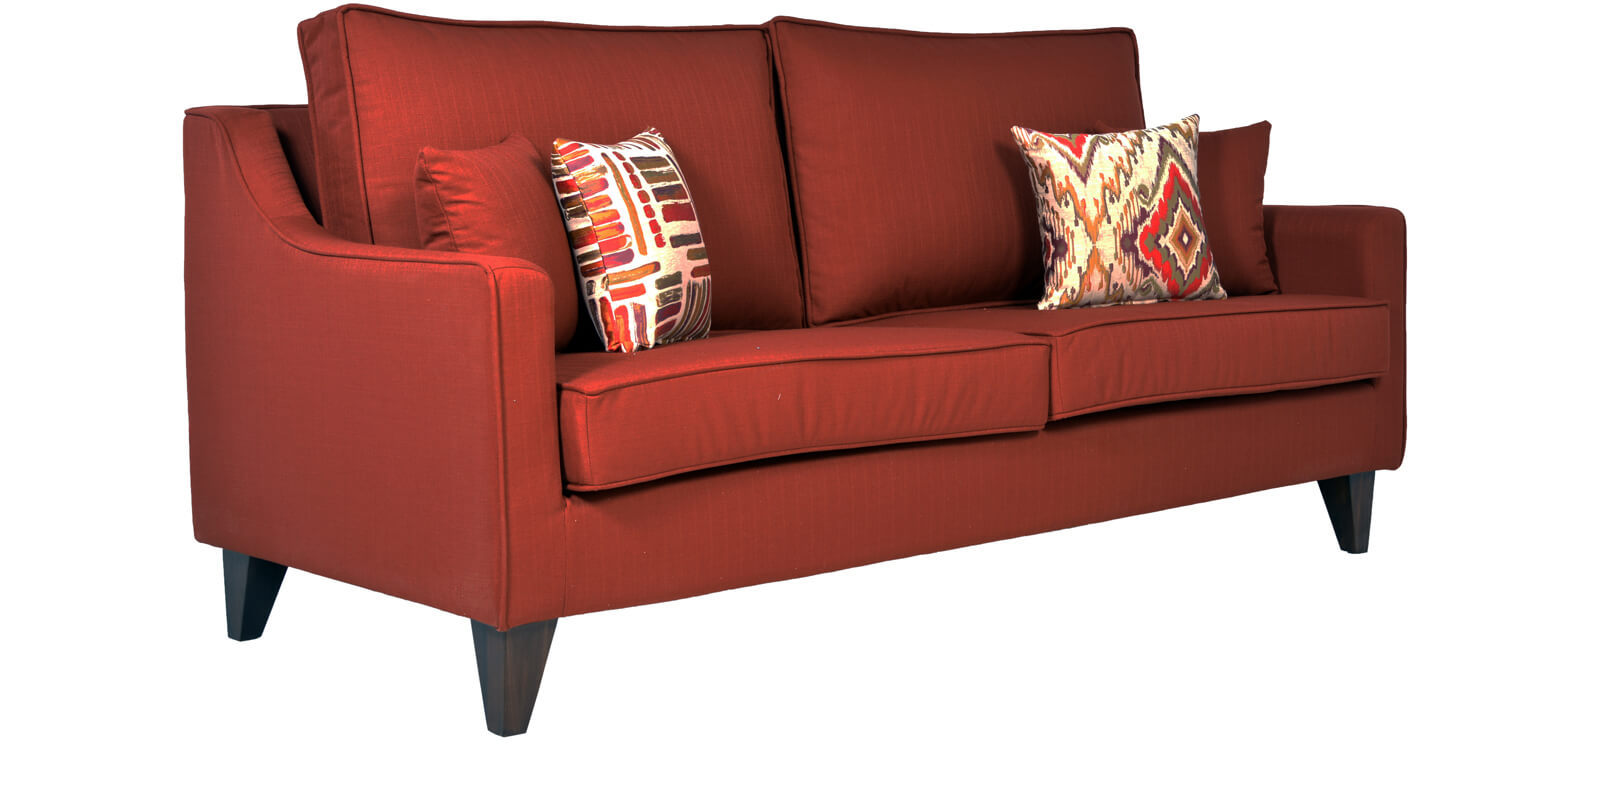Ithaca Impulse Three Seater Sofa with Throw Cushions in Burnt Sienna Colour by U: (139, 1, 1477, 745)
